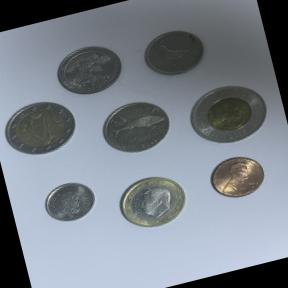coin: (174, 68, 280, 159), (106, 163, 199, 240), (91, 89, 180, 166), (0, 92, 82, 165), (49, 36, 132, 104), (198, 145, 274, 210), (35, 172, 103, 232)
